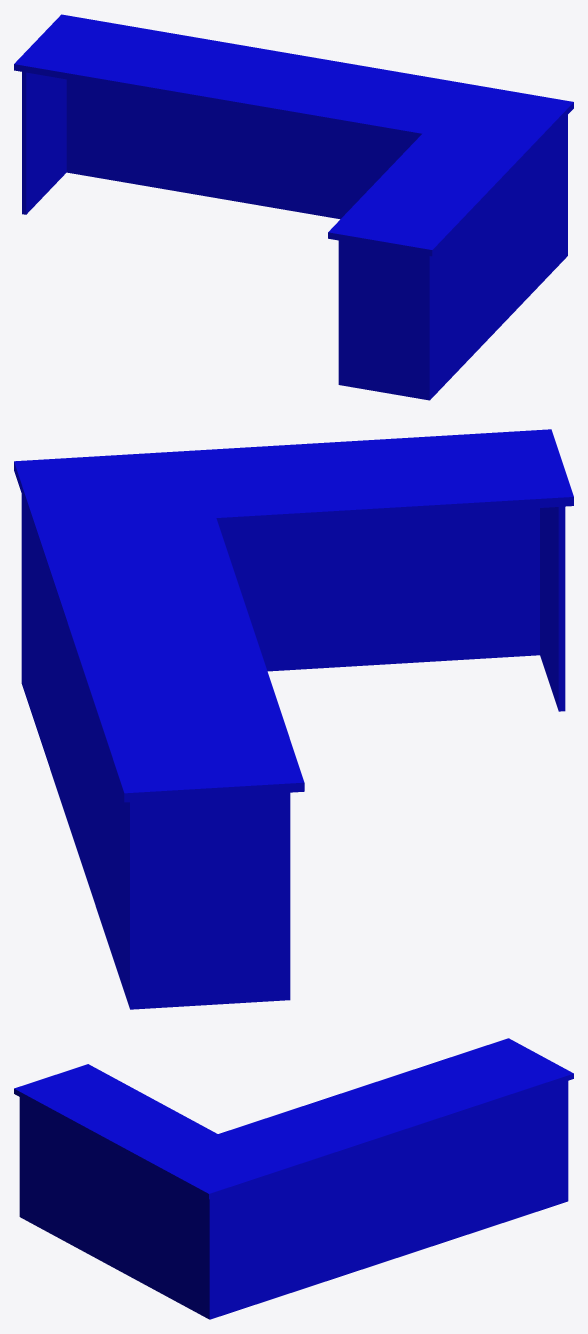
Rendered from OM_GF_Meeting_Table.fbx.
3 views of the same model, one above another, from view 1: azimuth 30°, elevation 25°; view 2: azimuth 150°, elevation 25°; view 3: azimuth 270°, elevation 25° (orthographic). The views are drawn at different scales.
Parts seen in each view (by area): view 1: OM_GF_Meeting_Table; view 2: OM_GF_Meeting_Table; view 3: OM_GF_Meeting_Table.
Boxes of the visible parts, bbox=[...] form: OM_GF_Meeting_Table: bbox=[14, 14, 573, 400]; OM_GF_Meeting_Table: bbox=[14, 429, 573, 1009]; OM_GF_Meeting_Table: bbox=[14, 1038, 573, 1319].
Bounding box in the file's own units: 7.82 × 3 × 11.88.
